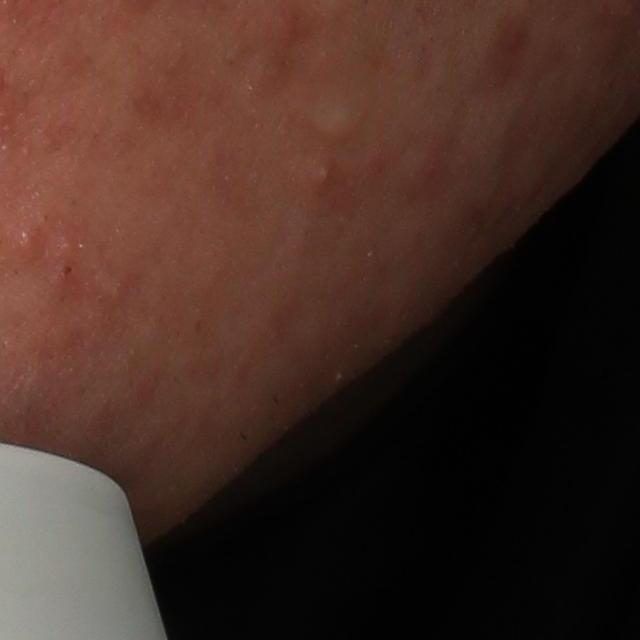comedo: (59, 259, 79, 279)
papule: (11, 226, 51, 262)
